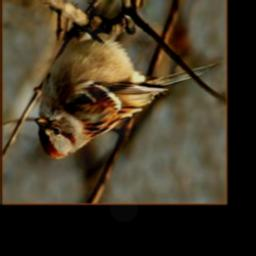Sparrow: (35, 0, 220, 160)
